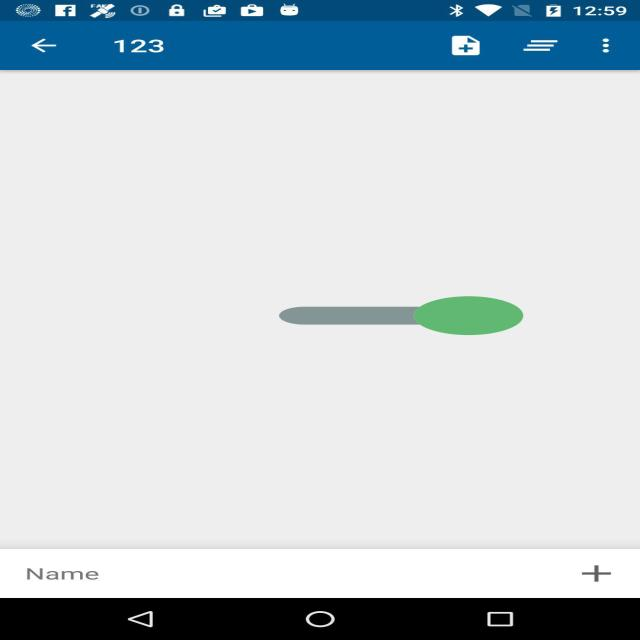social proof: (279, 272, 523, 359)
